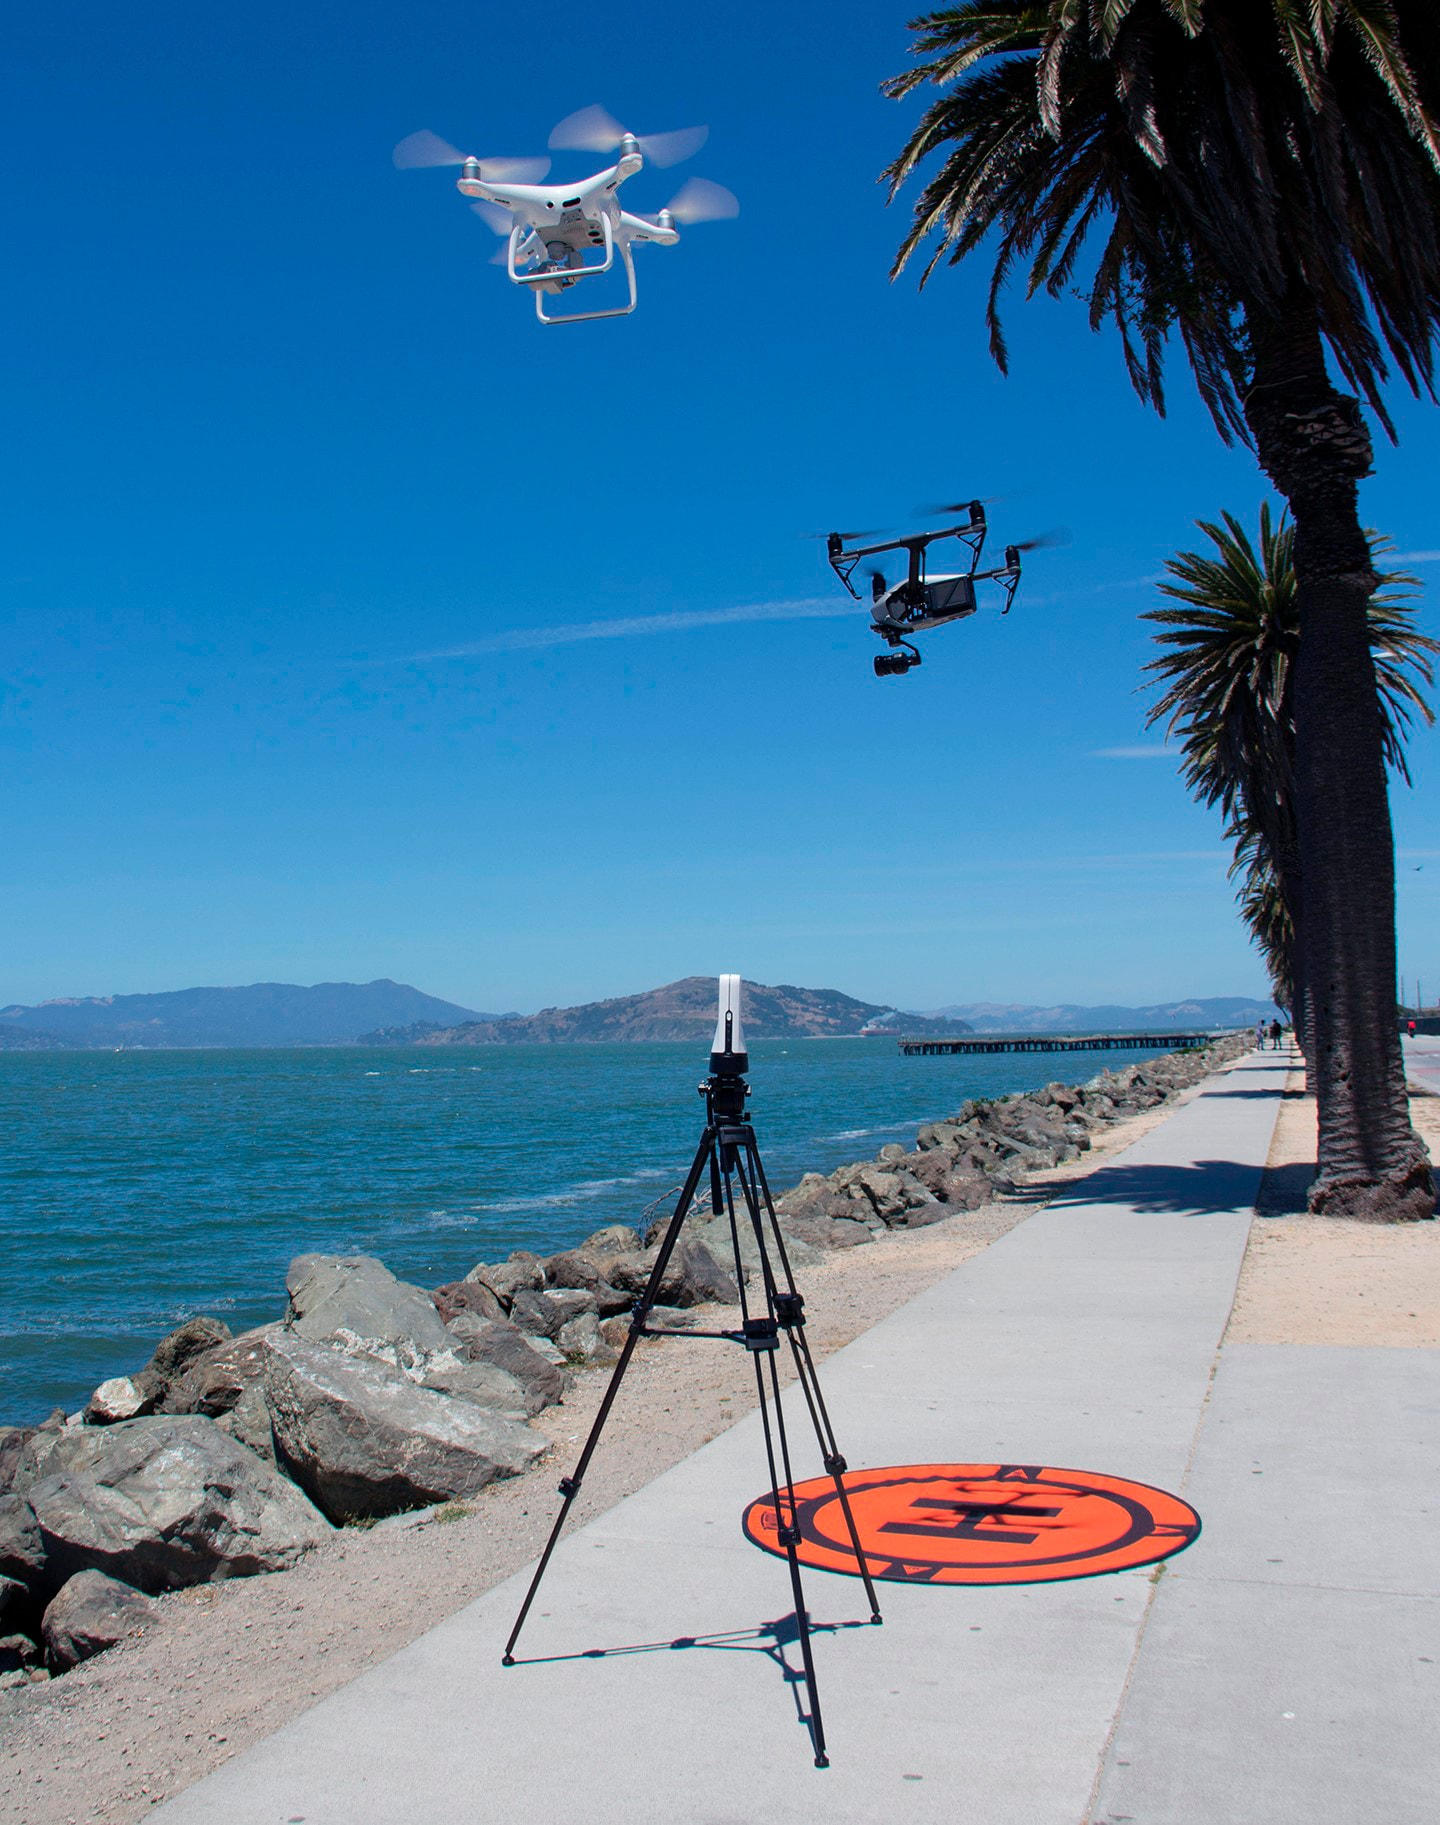drone: (387, 96, 751, 345), (776, 492, 1084, 684)
shadow_of_drone: (916, 1467, 1099, 1554)
